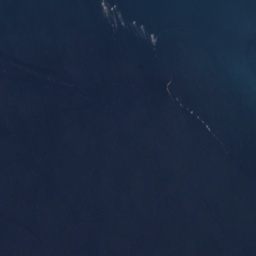Marine Debris: (100, 0, 117, 16), (165, 80, 173, 98), (201, 120, 211, 131), (148, 33, 157, 45), (118, 13, 125, 26), (190, 111, 194, 115), (133, 22, 136, 25)
